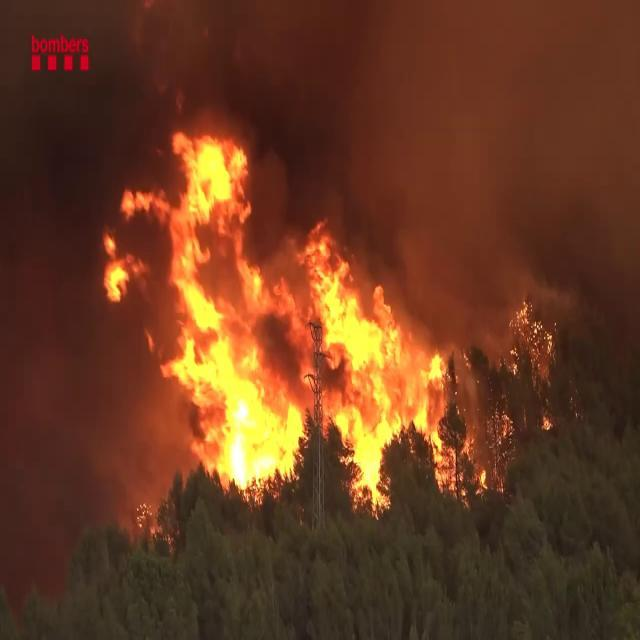Fire: (100, 118, 468, 512)
Smoke: (356, 2, 640, 354), (0, 32, 156, 530)
